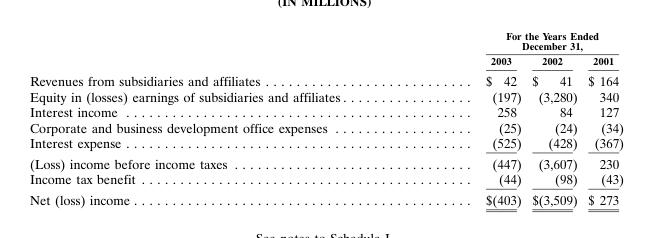table: (28, 28, 623, 207)
table column: (28, 28, 415, 207), (415, 28, 526, 207), (526, 28, 582, 207), (582, 28, 623, 207)
table column header: (28, 28, 623, 69)
table row: (28, 28, 623, 52), (28, 69, 623, 88), (28, 170, 623, 189), (28, 134, 623, 152), (28, 152, 623, 170), (28, 189, 623, 207), (28, 52, 623, 69), (28, 103, 623, 119), (28, 88, 623, 103), (28, 119, 623, 134)
table spanning cell: (415, 28, 623, 52)
